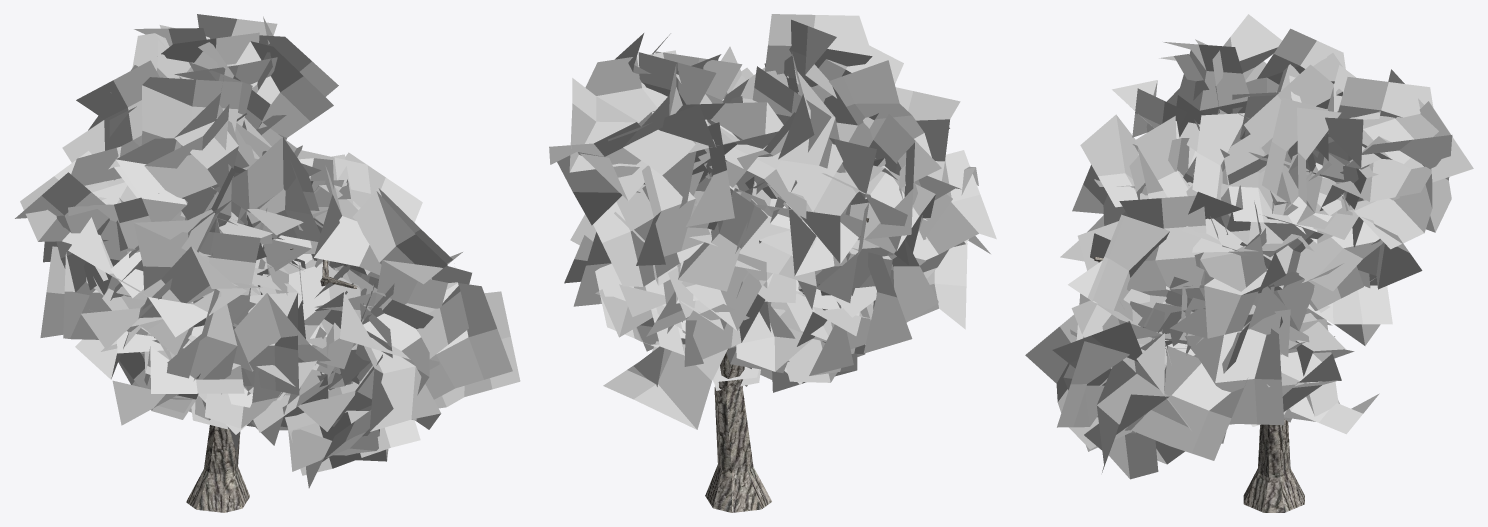
The model's file is tree3.fbx.
The picture shows the model from 3 angles, left to right: view 1: azimuth 30°, elevation 25°; view 2: azimuth 150°, elevation 25°; view 3: azimuth 270°, elevation 25°; orthographic projection. The views are drawn at different scales.
Parts seen in each view (by area): view 1: Cube; view 2: Cube; view 3: Cube.
Part boxes in pixels (bbox=[...]): Cube: bbox=[15, 14, 520, 512]; Cube: bbox=[549, 14, 996, 512]; Cube: bbox=[1025, 14, 1473, 512].
Size of the model in its own units: 2940 by 3180 by 2892.
2 materials, 1 textured.
